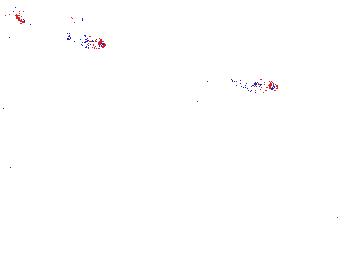X-ray fish: (178, 160, 221, 189)
red belly glassfish: (231, 77, 279, 95), (65, 32, 107, 50)
